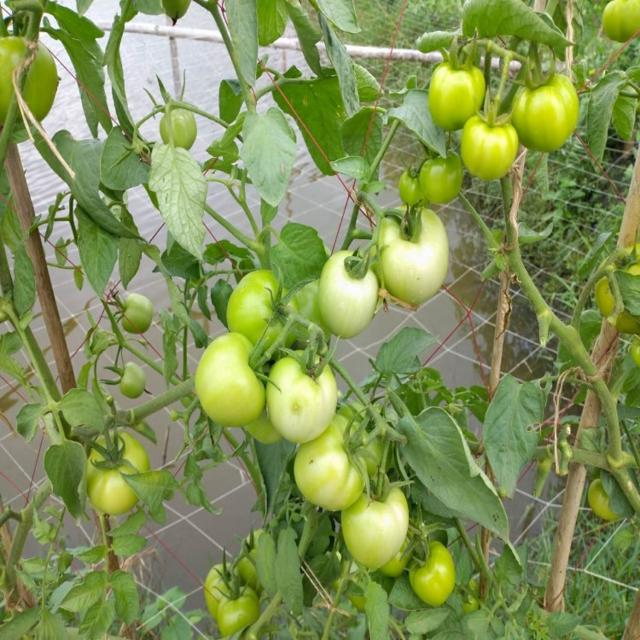tomato: (294, 424, 383, 508), (377, 206, 448, 310), (190, 336, 266, 429), (224, 273, 320, 346), (1, 34, 64, 128), (270, 356, 337, 444), (510, 73, 582, 150), (335, 484, 397, 573), (88, 430, 147, 520), (324, 247, 379, 339), (590, 250, 640, 327), (433, 59, 483, 130), (462, 117, 518, 178), (408, 534, 454, 607), (200, 553, 243, 614), (587, 475, 628, 535), (153, 101, 202, 151), (597, 1, 640, 52), (423, 154, 463, 207), (221, 588, 260, 636), (122, 289, 161, 332), (395, 165, 429, 208), (117, 365, 153, 405), (239, 531, 267, 578)
